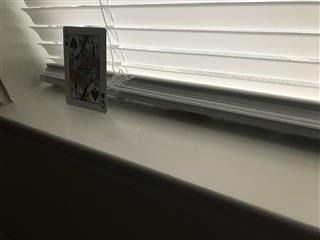QueenOfSpades: (61, 25, 107, 114)
